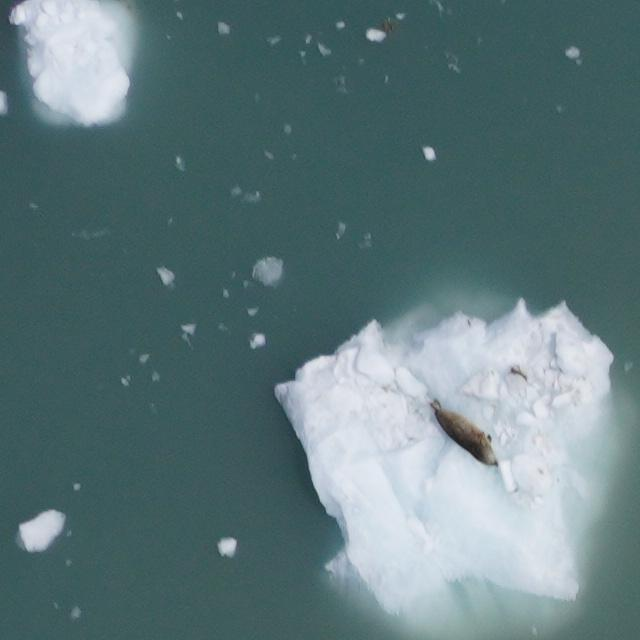seal: (418, 396, 512, 473)
